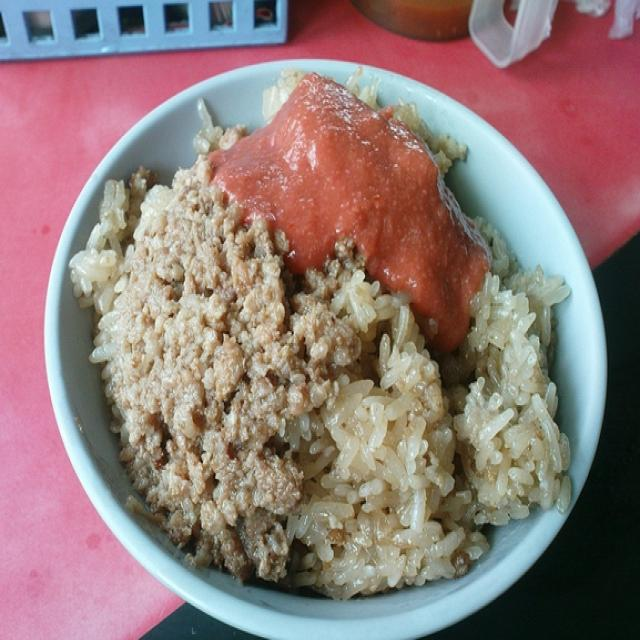米饭主食: (18, 28, 631, 631)
